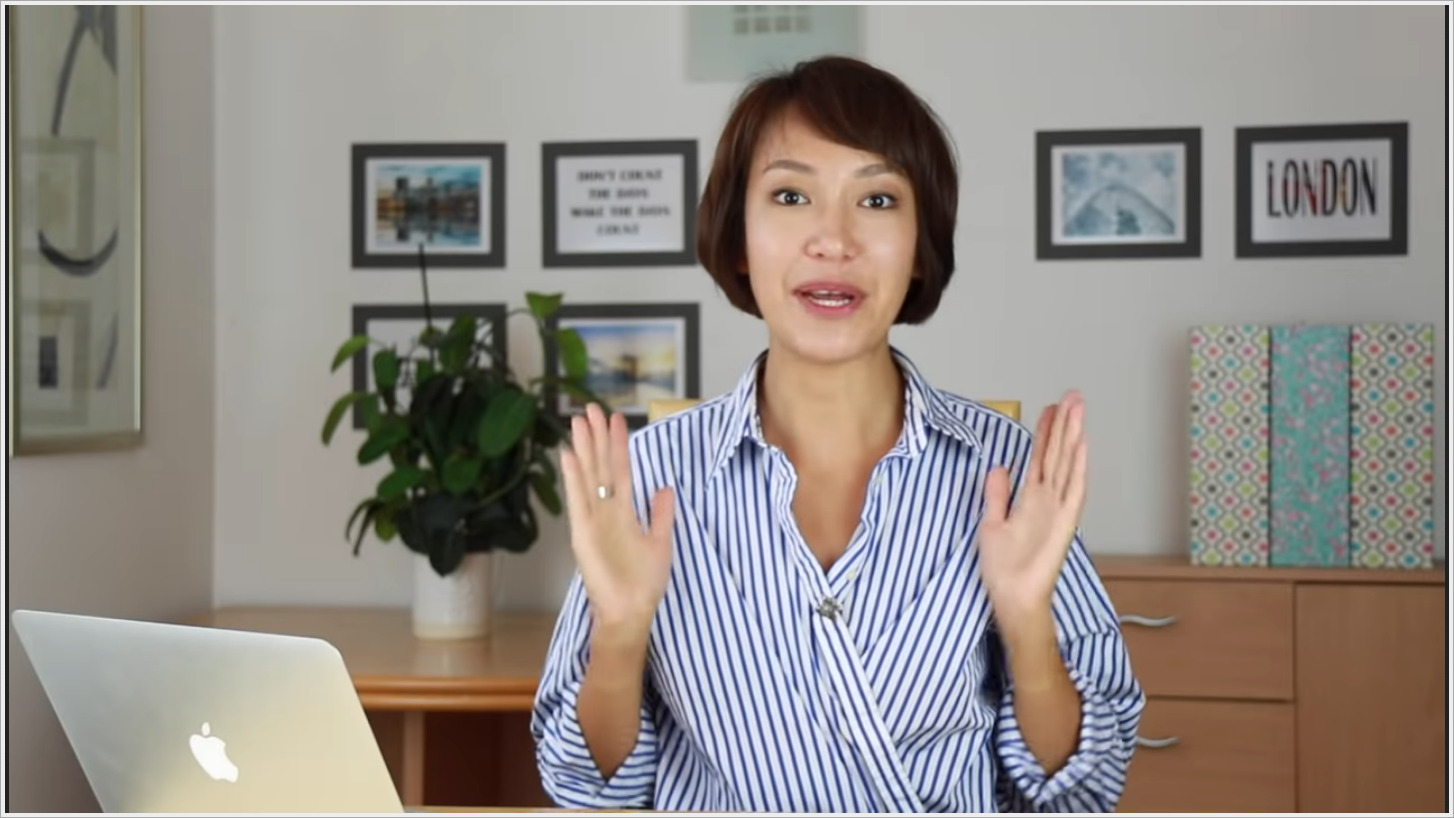hand: (556, 400, 680, 636), (974, 389, 1097, 618)
